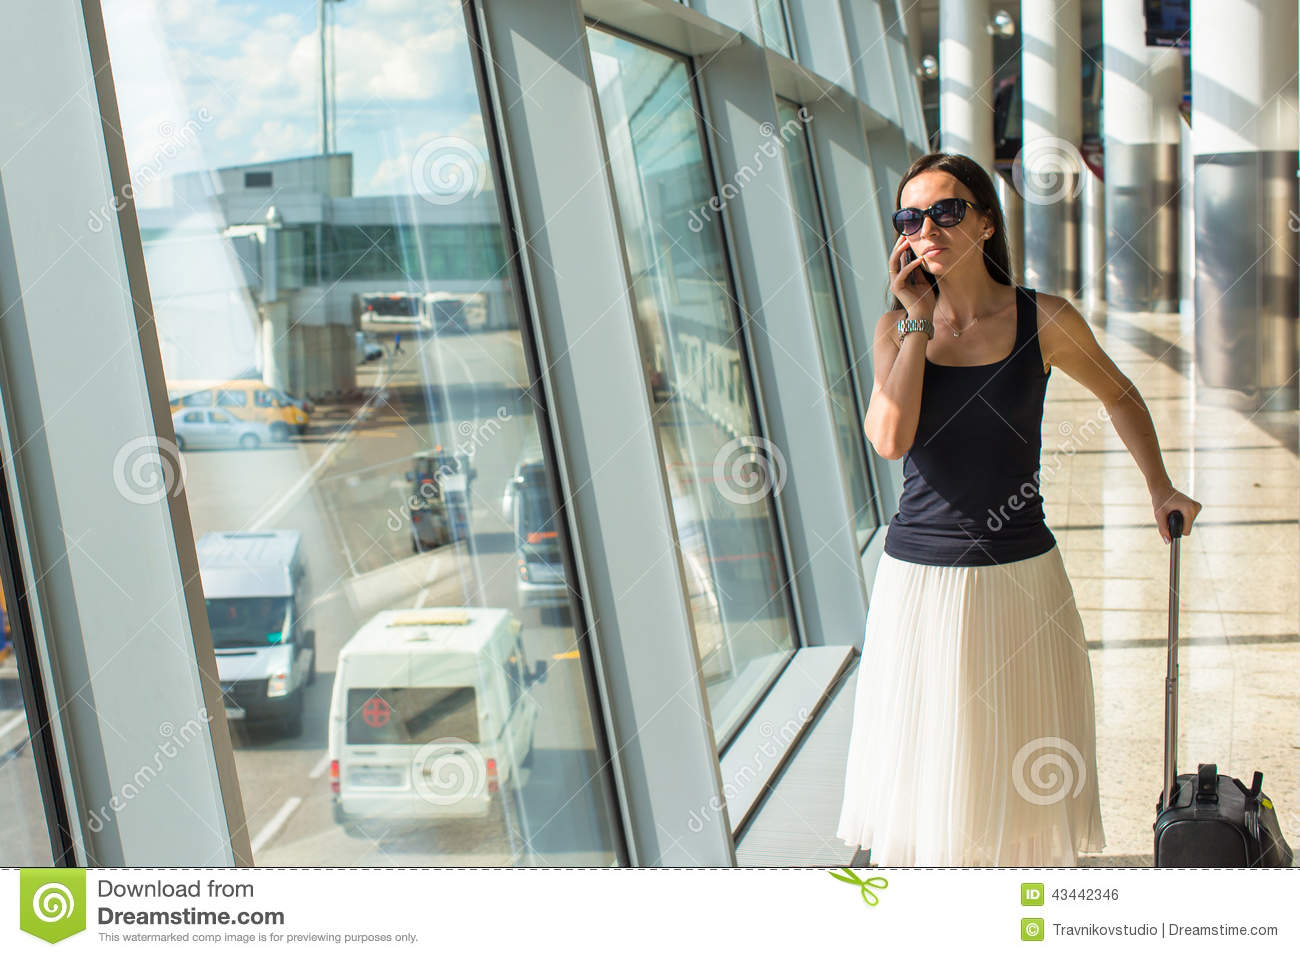phone: (901, 230, 922, 288)
talk: (888, 194, 970, 320)
